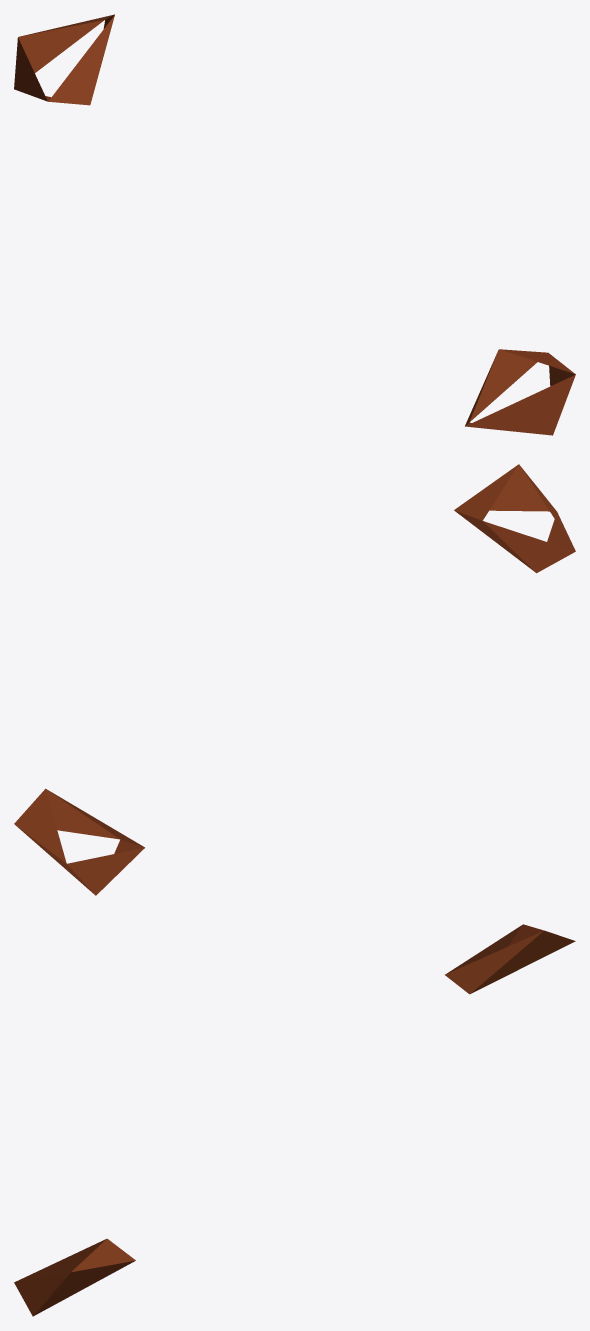
Rendered from bogie_left_064.dae.
3 renders of one model, top to bottom at view 1: azimuth 30°, elevation 25°; view 2: azimuth 150°, elevation 25°; view 3: azimuth 330°, elevation 25°, orthographic. The views are drawn at different scales.
Visible parts, largest first — view 1: node; view 2: node; view 3: node.
Part boxes in pixels (<box>): node: <box>14,14,575,435</box>; node: <box>14,464,575,895</box>; node: <box>14,924,575,1316</box>.
Size of the model in its own units: 0.00715 by 0.0583 by 0.00458.
